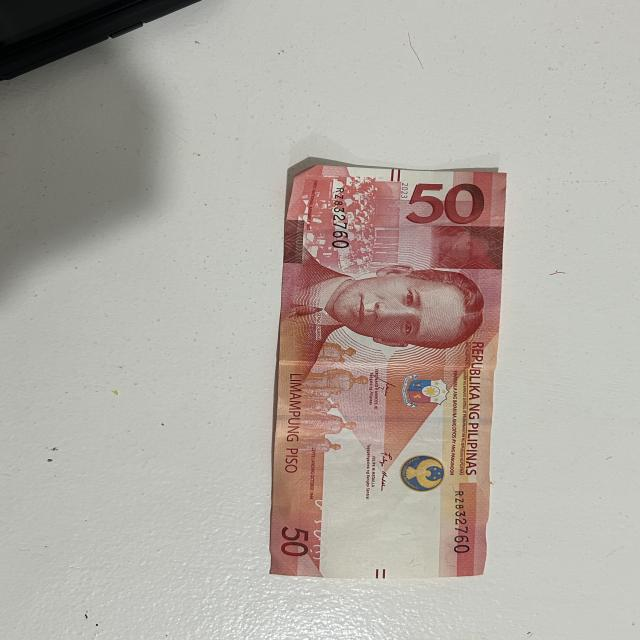concealed_value: (430, 224, 506, 269)
security_thread: (275, 413, 493, 426)
see_through_mark: (307, 489, 333, 566)
serial_number: (326, 178, 363, 255), (448, 483, 484, 558)
value: (406, 175, 482, 231)
